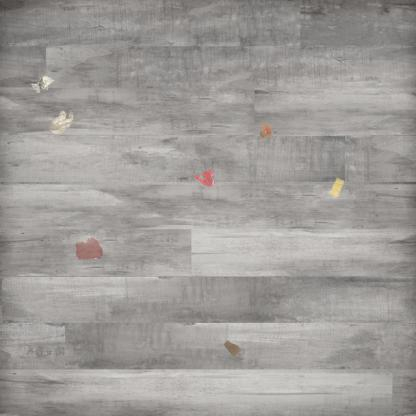dirty: (46, 109, 76, 136), (29, 72, 55, 94), (221, 338, 243, 358), (258, 121, 276, 142), (328, 176, 344, 198)
liquid: (74, 236, 104, 260), (193, 169, 216, 188)
